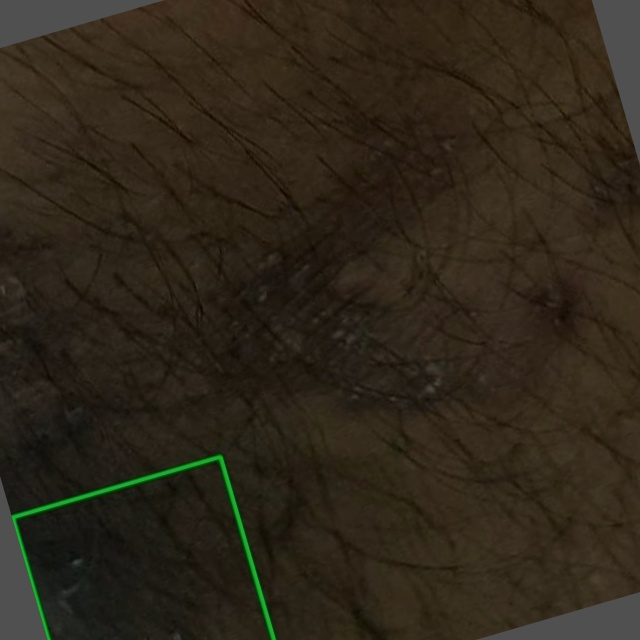Tinea Corporis: (12, 456, 273, 639)
